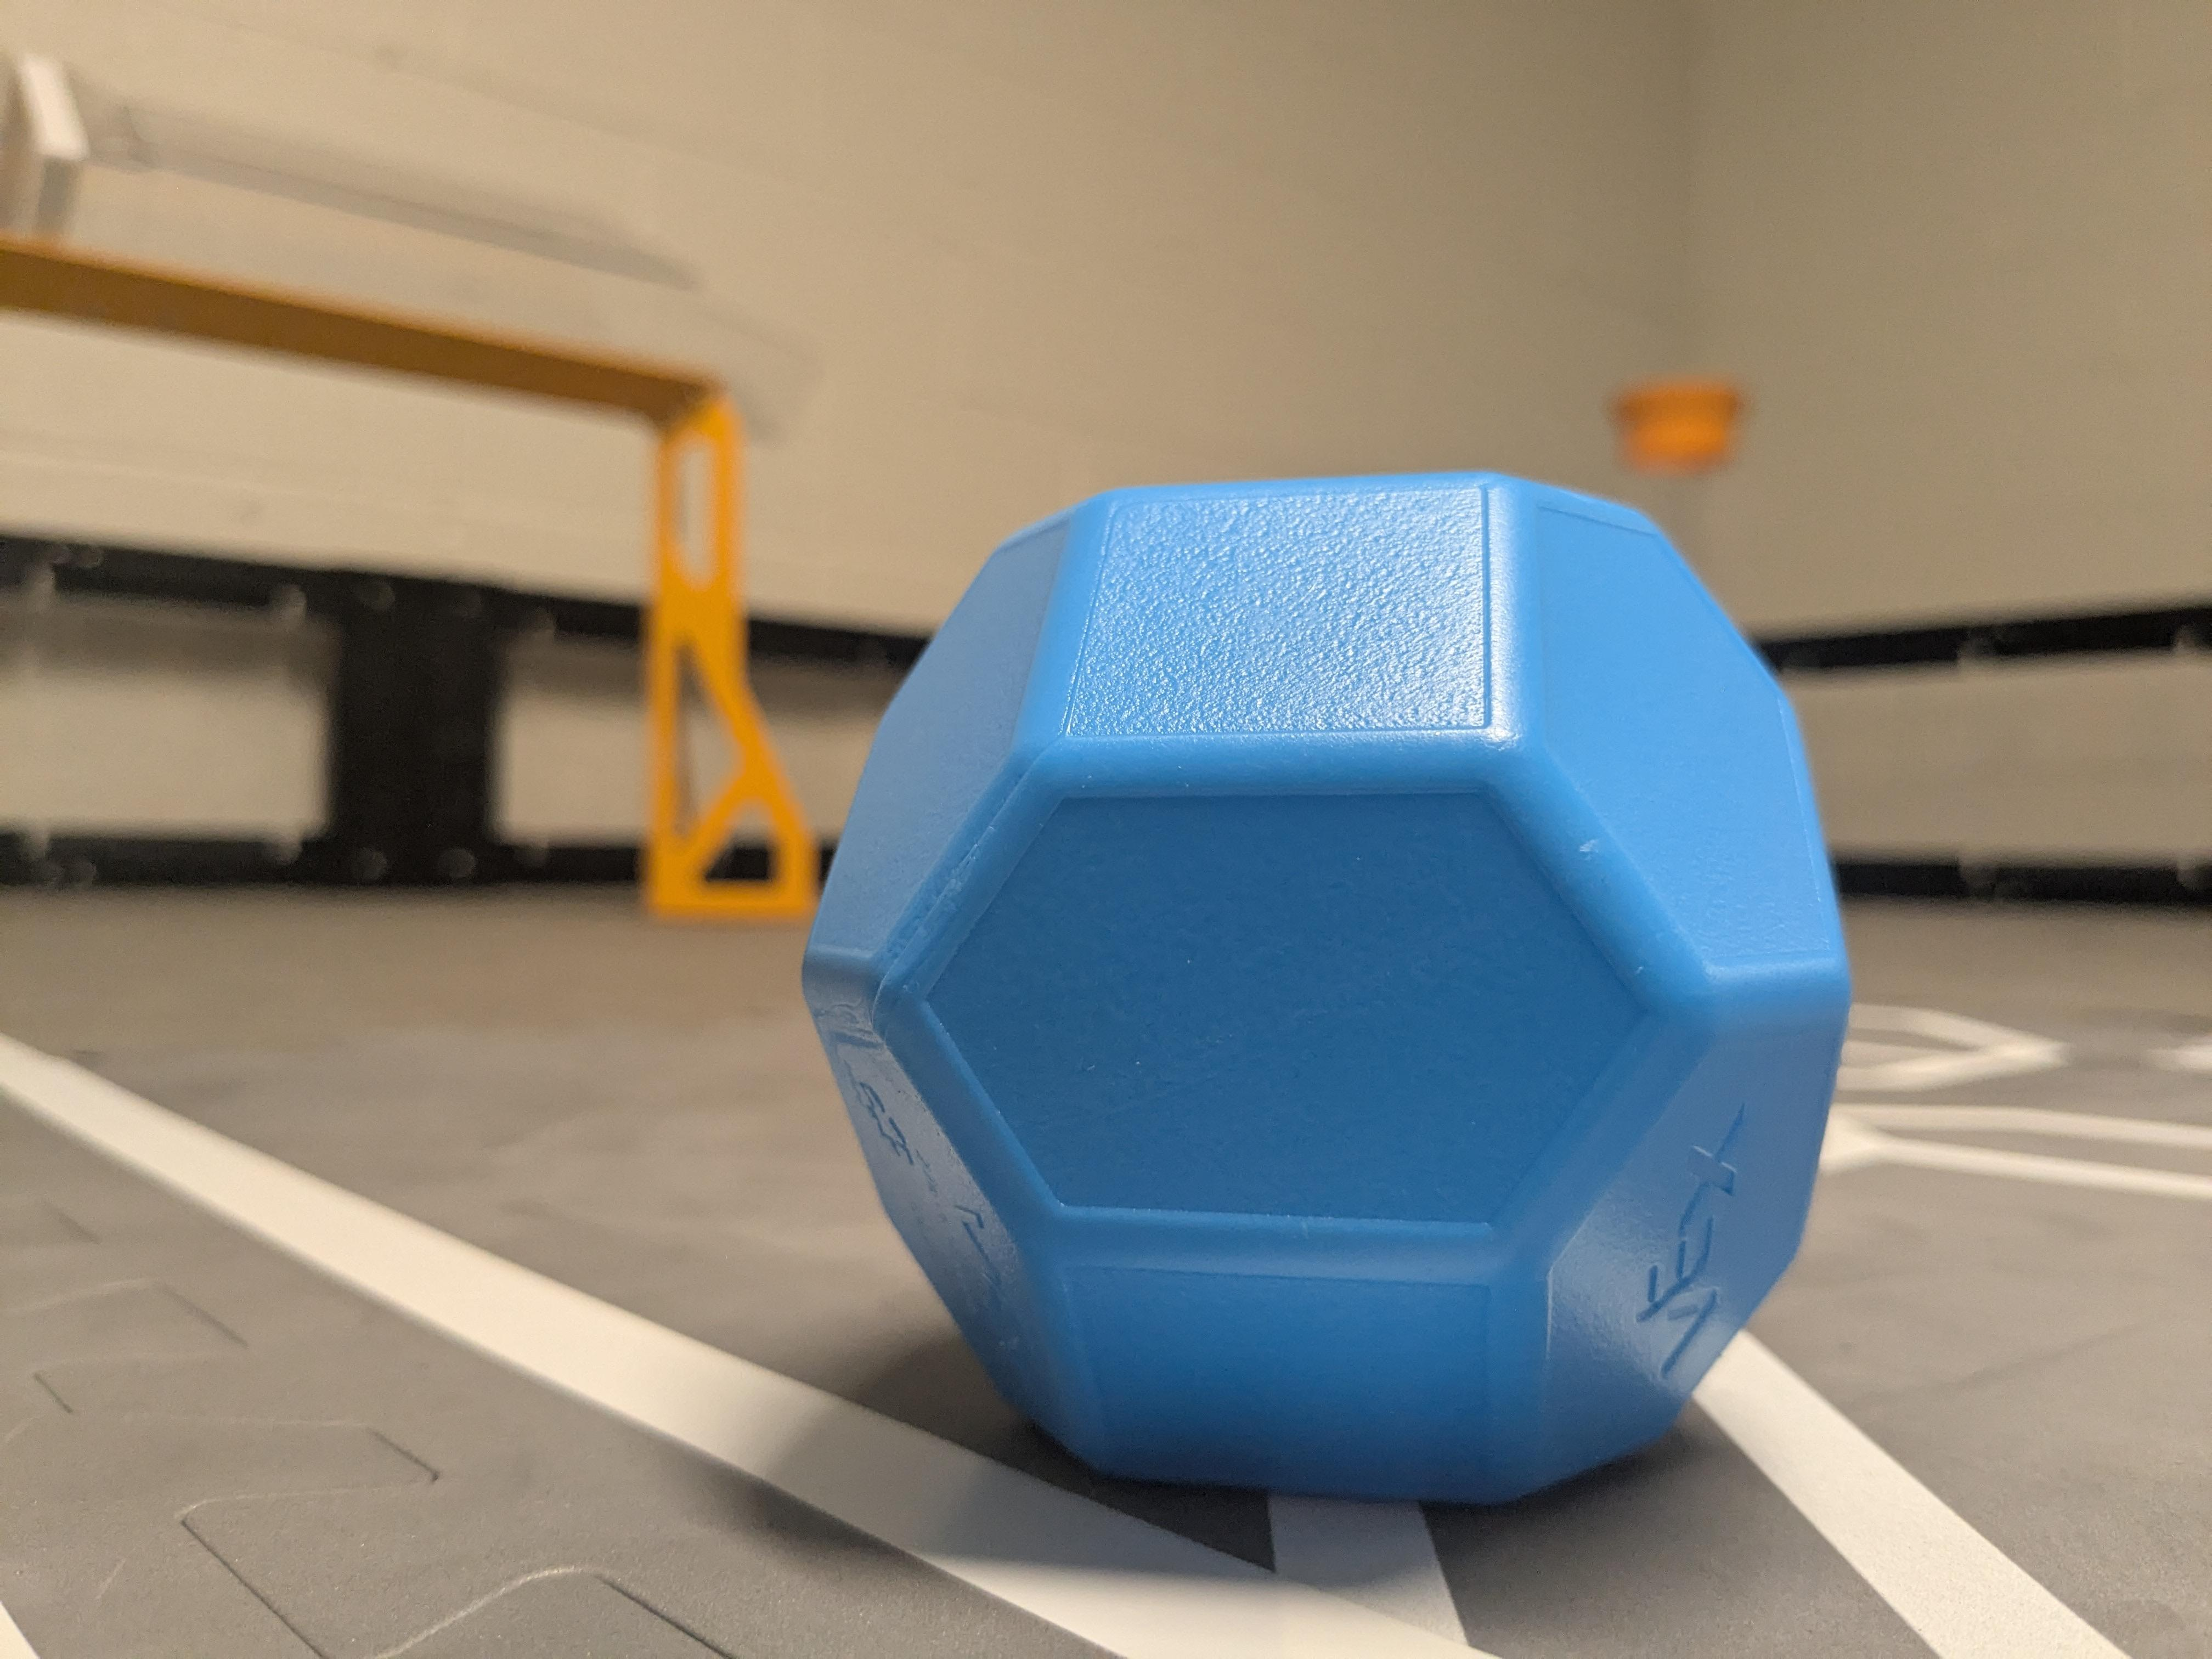Vex-Pieces-BLUE: (784, 465, 1841, 1490)
